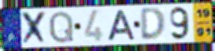4: (83, 8, 106, 44)
9: (169, 6, 191, 41)
A: (107, 9, 137, 42)
D: (139, 6, 167, 42)
Q: (48, 10, 75, 45)
X: (21, 10, 49, 46)
